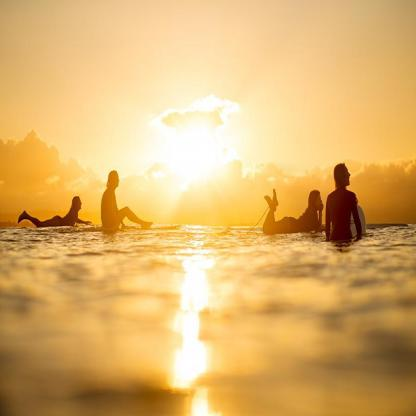other: (137, 88, 240, 212), (168, 226, 220, 395)
